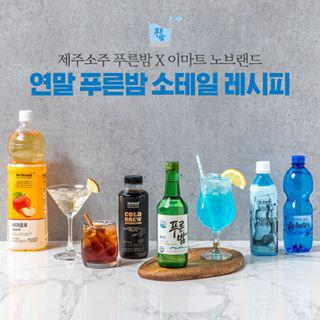soju: (155, 158, 192, 269)
